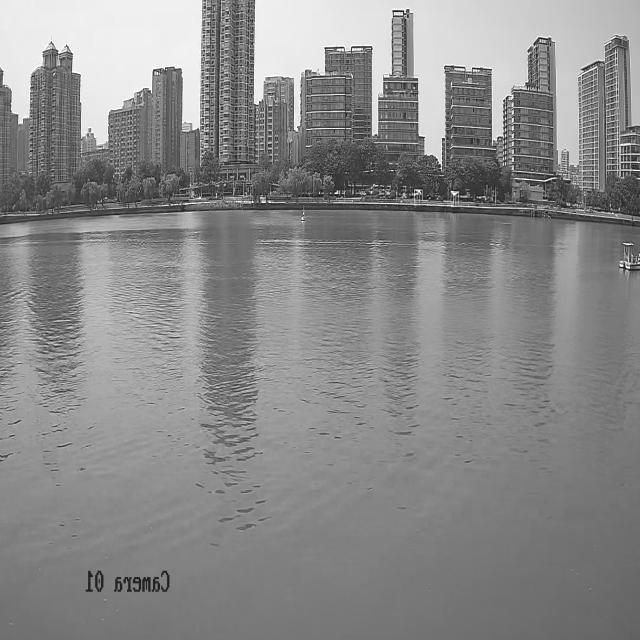ship: (619, 240, 640, 268)
